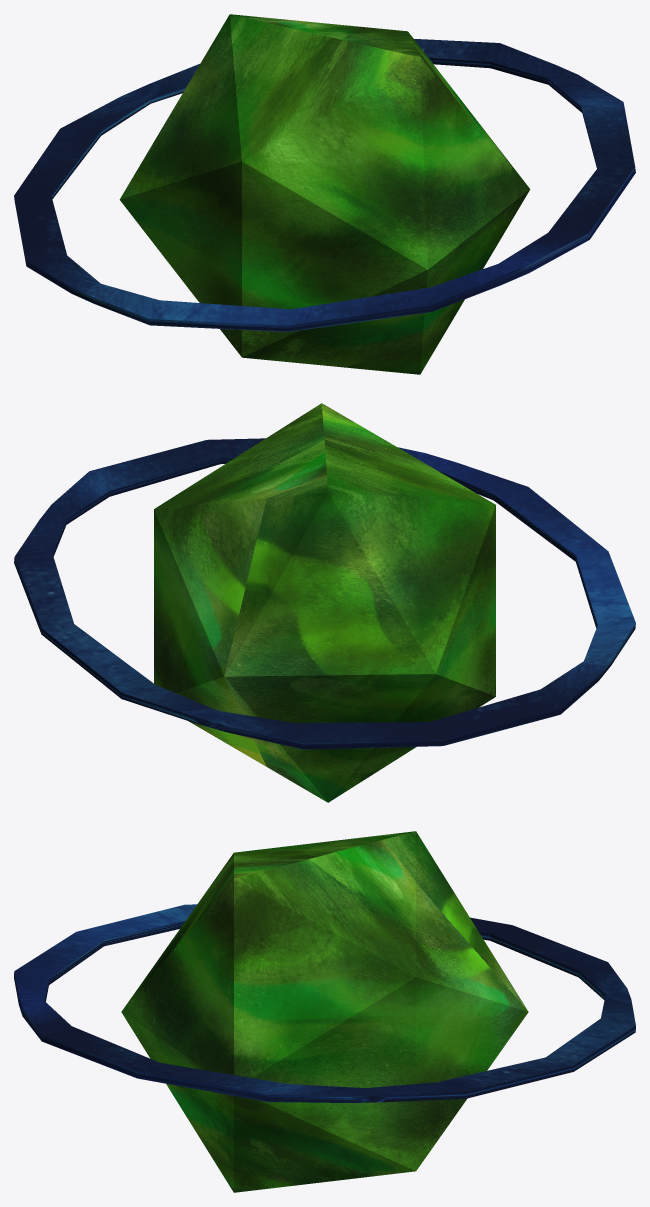
The model's file is planeta.fbx.
3 renders of one model, top to bottom at view 1: azimuth 30°, elevation 25°; view 2: azimuth 150°, elevation 25°; view 3: azimuth 270°, elevation 25°, orthographic. The views are drawn at different scales.
Parts seen in each view (by area): view 1: pPlatonic1, pCube1; view 2: pPlatonic1, pCube1; view 3: pPlatonic1, pCube1.
Part boxes in pixels (x1,y1,x2,y2): pPlatonic1: (119, 14, 530, 374); pCube1: (14, 39, 635, 332); pPlatonic1: (154, 403, 495, 802); pCube1: (14, 438, 635, 749); pPlatonic1: (121, 831, 528, 1192); pCube1: (14, 904, 635, 1102).
Size of the model in its own units: 112 by 62.74 by 113.
